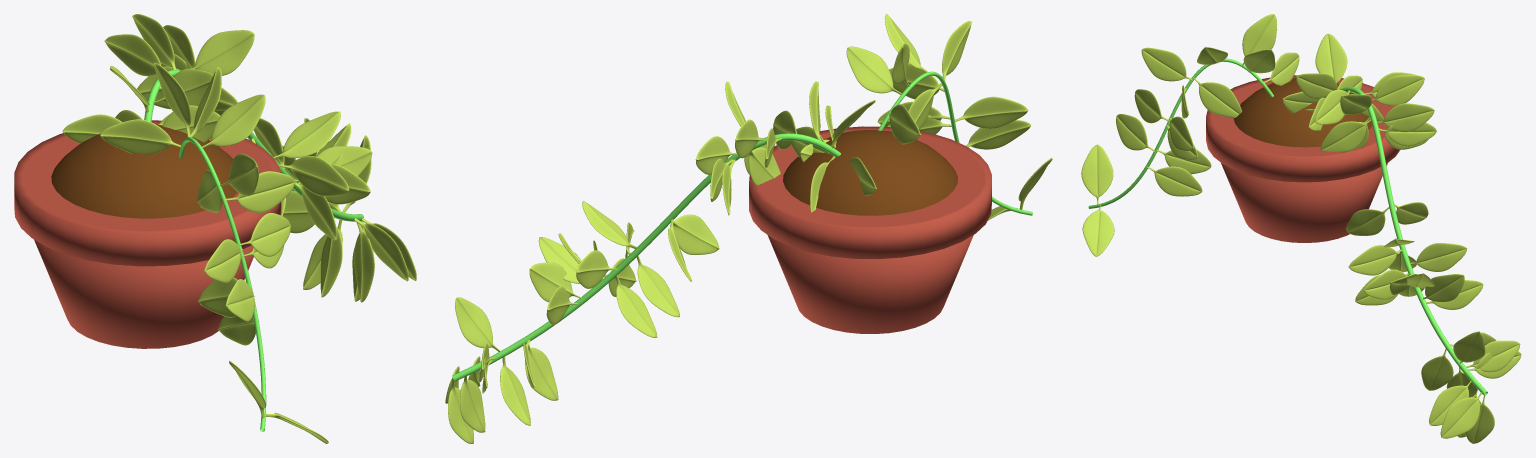
Rendered from Primavera1.fbx.
3 renders of one model, left to right at view 1: azimuth 30°, elevation 25°; view 2: azimuth 150°, elevation 25°; view 3: azimuth 270°, elevation 25°, orthographic. The views are drawn at different scales.
Visible parts, largest first — view 1: Circle.021, Sphere.014, NurbsPath.031|Plane.026|Dupli|28, NurbsPath.030|Plane.026|Dupli|14, NurbsPath.030|Plane.026|Dupli|11, NurbsPath.031|Plane.026|Dupli|20, NurbsPath.031|Plane.026|Dupli|18, NurbsPath.030|Plane.026|Dupli|8, NurbsPath.030, NurbsPath.031|Plane.026|Dupli|30, NurbsPath.030|Plane.026|Dupli|6, NurbsPath.031|Plane.026|Dupli|3 (+26 smaller); view 2: Circle.021, Sphere.014, NurbsPath.031, NurbsPath.030|Plane.026|Dupli|7, NurbsPath.030|Plane.026|Dupli|13, NurbsPath.031|Plane.026|Dupli|21, NurbsPath.031|Plane.026|Dupli|7, NurbsPath.031|Plane.026|Dupli|19, NurbsPath.031|Plane.026|Dupli|16, NurbsPath.031|Plane.026|Dupli|11, NurbsPath.030|Plane.026|Dupli|3, NurbsPath.031|Plane.026|Dupli|8 (+16 smaller); view 3: Circle.021, Sphere.014, NurbsPath.031, NurbsPath.030|Plane.026|Dupli|, NurbsPath.031|Plane.026|Dupli|, NurbsPath.030|Plane.026|Dupli|9, NurbsPath.030|Plane.026|Dupli|10, NurbsPath.031|Plane.026|Dupli|29, NurbsPath.031|Plane.026|Dupli|17, NurbsPath.030|Plane.026|Dupli|2, NurbsPath.031|Plane.026|Dupli|26, NurbsPath.031|Plane.026|Dupli|25 (+27 smaller).
Boxes of the visible parts, <box> form: Circle.021: <box>14,120,281,348</box>; Sphere.014: <box>51,124,237,218</box>; NurbsPath.031|Plane.026|Dupli|28: <box>192,30,254,75</box>; NurbsPath.030|Plane.026|Dupli|14: <box>100,119,180,154</box>; NurbsPath.030|Plane.026|Dupli|11: <box>202,94,265,148</box>; NurbsPath.031|Plane.026|Dupli|20: <box>274,111,340,158</box>; NurbsPath.031|Plane.026|Dupli|18: <box>279,156,349,196</box>; NurbsPath.030|Plane.026|Dupli|8: <box>223,171,295,212</box>; NurbsPath.030: <box>178,137,266,431</box>; NurbsPath.031|Plane.026|Dupli|30: <box>104,34,161,76</box>; NurbsPath.030|Plane.026|Dupli|6: <box>239,213,290,256</box>; NurbsPath.031|Plane.026|Dupli|3: <box>354,218,408,281</box>; Circle.021: <box>749,126,991,333</box>; Sphere.014: <box>783,130,957,215</box>; NurbsPath.031: <box>452,133,840,381</box>; NurbsPath.030|Plane.026|Dupli|7: <box>955,96,1028,128</box>; NurbsPath.030|Plane.026|Dupli|13: <box>846,46,901,94</box>; NurbsPath.031|Plane.026|Dupli|21: <box>673,214,719,254</box>; NurbsPath.031|Plane.026|Dupli|7: <box>455,297,500,351</box>; NurbsPath.031|Plane.026|Dupli|19: <box>636,255,679,317</box>; NurbsPath.031|Plane.026|Dupli|16: <box>615,275,657,337</box>; NurbsPath.031|Plane.026|Dupli|11: <box>529,262,581,302</box>; NurbsPath.030|Plane.026|Dupli|3: <box>966,120,1031,149</box>; NurbsPath.031|Plane.026|Dupli|8: <box>525,344,558,400</box>; Circle.021: <box>1206,75,1400,242</box>; Sphere.014: <box>1233,78,1372,147</box>; NurbsPath.031: <box>1340,87,1487,395</box>; NurbsPath.030|Plane.026|Dupli|: <box>1081,144,1113,204</box>; NurbsPath.031|Plane.026|Dupli|: <box>1440,392,1482,438</box>; NurbsPath.030|Plane.026|Dupli|9: <box>1192,77,1242,117</box>; NurbsPath.030|Plane.026|Dupli|10: <box>1141,47,1193,81</box>; NurbsPath.031|Plane.026|Dupli|29: <box>1372,75,1424,105</box>; NurbsPath.031|Plane.026|Dupli|17: <box>1410,243,1467,271</box>; NurbsPath.030|Plane.026|Dupli|2: <box>1146,166,1202,196</box>; NurbsPath.031|Plane.026|Dupli|26: <box>1377,103,1434,132</box>; NurbsPath.031|Plane.026|Dupli|25: <box>1320,119,1371,152</box>.
Bounding box in the file's own units: 66.48 × 55.87 × 72.09.
